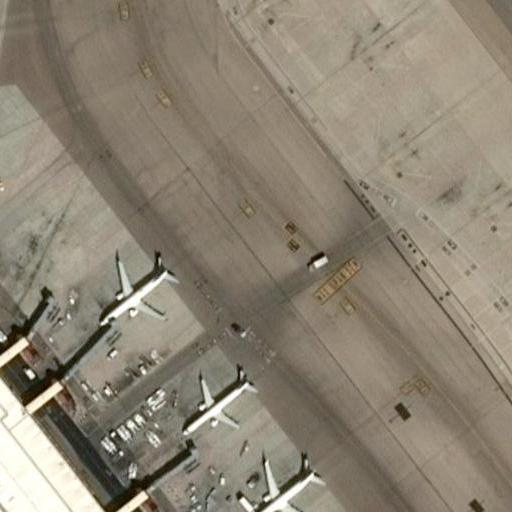Aircraft: (96, 253, 173, 327), (179, 364, 257, 436), (237, 455, 324, 512)
